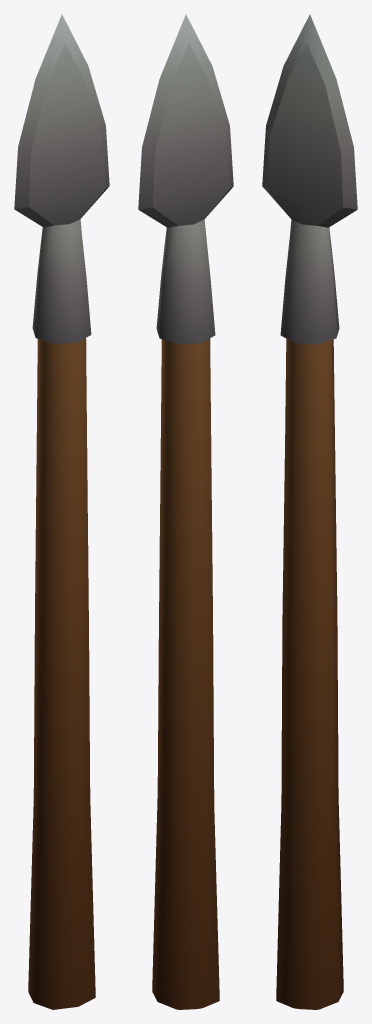
File: Spear_03.glb
3 views of the same model, side by side, from view 1: azimuth 30°, elevation 25°; view 2: azimuth 210°, elevation 25°; view 3: azimuth 330°, elevation 25° (orthographic).
Visible parts, largest first — view 1: Spear_03; view 2: Spear_03; view 3: Spear_03.
Part boxes in pixels (bbox=[...]): Spear_03: bbox=[14, 14, 109, 1009]; Spear_03: bbox=[138, 14, 233, 1009]; Spear_03: bbox=[262, 14, 357, 1009].
Size of the model in its own units: 0.1453 by 1.44 by 0.0866.
1 material, 1 textured.
